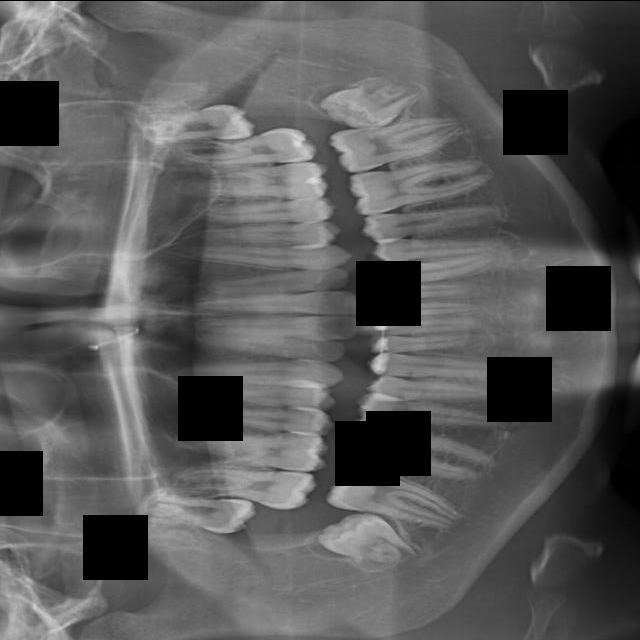3M ESPE Implant: (134, 495, 257, 534)
AGS Medikal Implant: (208, 264, 352, 301)
AMerOss Implant: (166, 244, 353, 268)
Amalgam filling: (213, 220, 342, 245)
Anthogyr Implant: (191, 196, 336, 231)
Bicon Implant: (192, 160, 331, 203)
BioHorizons Implant: (182, 146, 220, 153)
BioLife Implant: (138, 101, 256, 143)
Biomet 3i Implant: (315, 61, 433, 144)
Blue Sky Bio Implant: (451, 123, 456, 125)
Camlog Implant: (345, 154, 497, 216)
Caries: (153, 467, 318, 510)
Composite filling: (358, 194, 508, 243)
Cowellmedi Implant: (370, 226, 513, 264)
Crown: (380, 251, 502, 286)
DENTSPLY Implant: (377, 281, 483, 301)
Dentatus Implant: (370, 300, 484, 318)
Dentis Implant: (366, 316, 487, 336)
Dentium Implant: (365, 333, 488, 353)
Euroteknika Implant: (365, 351, 524, 383)
Filling: (364, 372, 500, 410)
Frontier Implant: (351, 391, 507, 440)
Hiossen Implant: (191, 429, 329, 471)
Implant: (397, 492, 450, 523)
Implant Direct: (343, 418, 494, 485)
Keystone Dental Implant: (313, 492, 426, 593)
MIS Implant: (185, 399, 333, 434)
Mandible: (192, 381, 337, 410)
Maxilla: (154, 355, 345, 385)
Megagen Implant: (194, 331, 346, 362)
Neodent Implant: (188, 310, 361, 340)
Neoss Implant: (188, 287, 360, 314)
